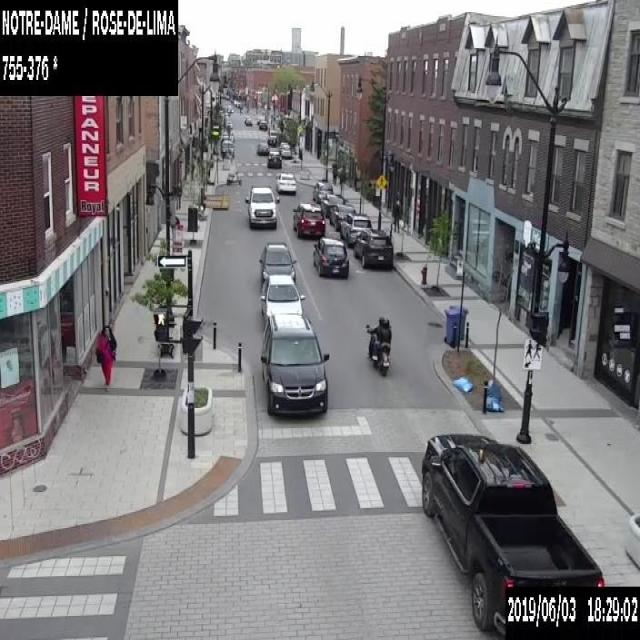pedestrian: (94, 322, 116, 388), (390, 195, 401, 232)
vehicle: (419, 432, 605, 639), (260, 312, 329, 417), (259, 273, 305, 318), (259, 241, 296, 287), (364, 315, 391, 375), (353, 228, 393, 267), (312, 236, 349, 278), (244, 186, 280, 228), (292, 201, 325, 236), (339, 212, 372, 247), (329, 203, 355, 231), (320, 192, 344, 216), (311, 180, 333, 202), (275, 172, 296, 194), (266, 150, 281, 167), (220, 140, 234, 156), (267, 129, 277, 145), (256, 141, 268, 154), (280, 144, 290, 157), (222, 131, 234, 141), (278, 141, 288, 151), (258, 120, 266, 129), (245, 117, 252, 125), (225, 120, 232, 127), (226, 105, 232, 112), (243, 115, 249, 122), (256, 118, 262, 124)
